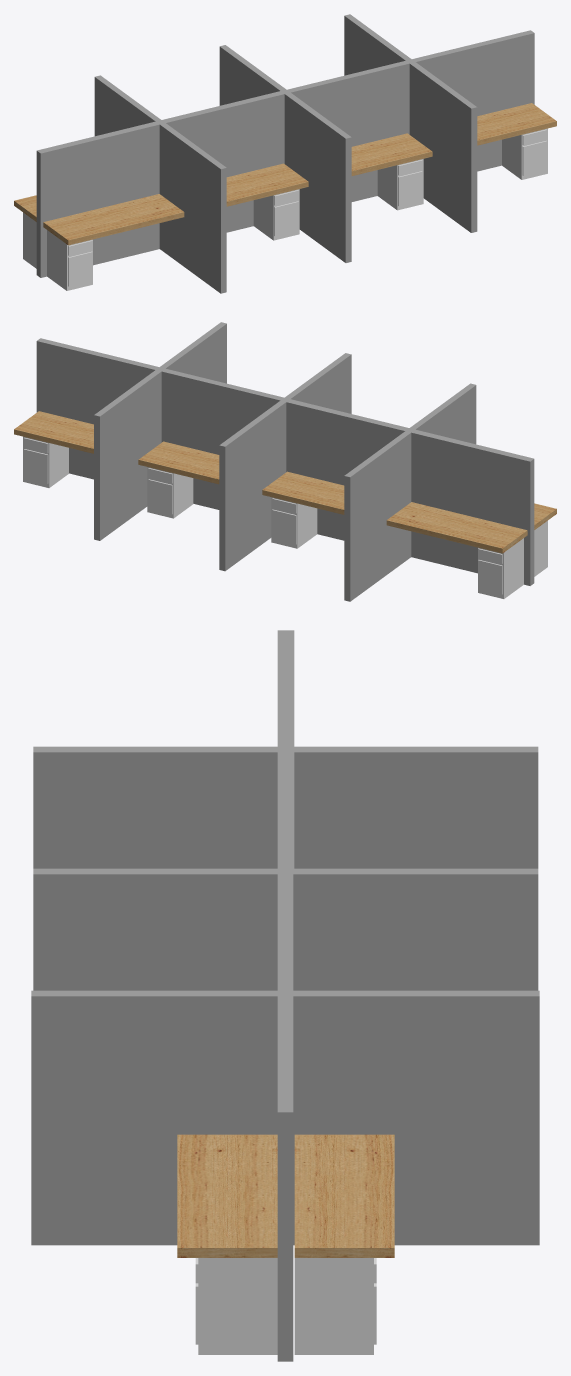
Rendered from cubicle-8.fbx.
3 views of the same model, one above another, from view 1: azimuth 30°, elevation 25°; view 2: azimuth 150°, elevation 25°; view 3: azimuth 270°, elevation 25° (orthographic). The views are drawn at different scales.
Parts seen in each view (by area): view 1: Cubicle, polySurface37, polySurface45, polySurface41, polySurface33, polySurface44, polySurface34, polySurface36, polySurface43, polySurface28, polySurface25; view 2: Cubicle, polySurface37, polySurface45, polySurface25, polySurface17, polySurface28, polySurface20, polySurface19, polySurface27, polySurface44, polySurface41; view 3: Cubicle, polySurface45.
Part boxes in pixels (x1,y1,x2,y2): Cubicle: [36, 14, 534, 293]; polySurface37: [351, 133, 432, 210]; polySurface45: [477, 103, 556, 179]; polySurface41: [43, 194, 184, 245]; polySurface33: [226, 163, 308, 206]; polySurface44: [47, 230, 92, 290]; polySurface34: [253, 189, 299, 240]; polySurface36: [274, 201, 298, 236]; polySurface43: [68, 251, 92, 286]; polySurface28: [23, 212, 36, 268]; polySurface25: [14, 195, 36, 221]; Cubicle: [36, 322, 534, 601]; polySurface37: [138, 441, 219, 518]; polySurface45: [14, 411, 93, 487]; polySurface25: [386, 502, 527, 553]; polySurface17: [262, 471, 344, 514]; polySurface28: [478, 538, 523, 598]; polySurface20: [271, 497, 317, 548]; polySurface19: [272, 509, 296, 544]; polySurface27: [478, 560, 502, 594]; polySurface44: [534, 520, 547, 576]; polySurface41: [534, 503, 556, 529]; Cubicle: [31, 630, 539, 1361]; polySurface45: [177, 1134, 394, 1354].
Bounding box in the file's own units: 20.75 × 5 × 9.24.
